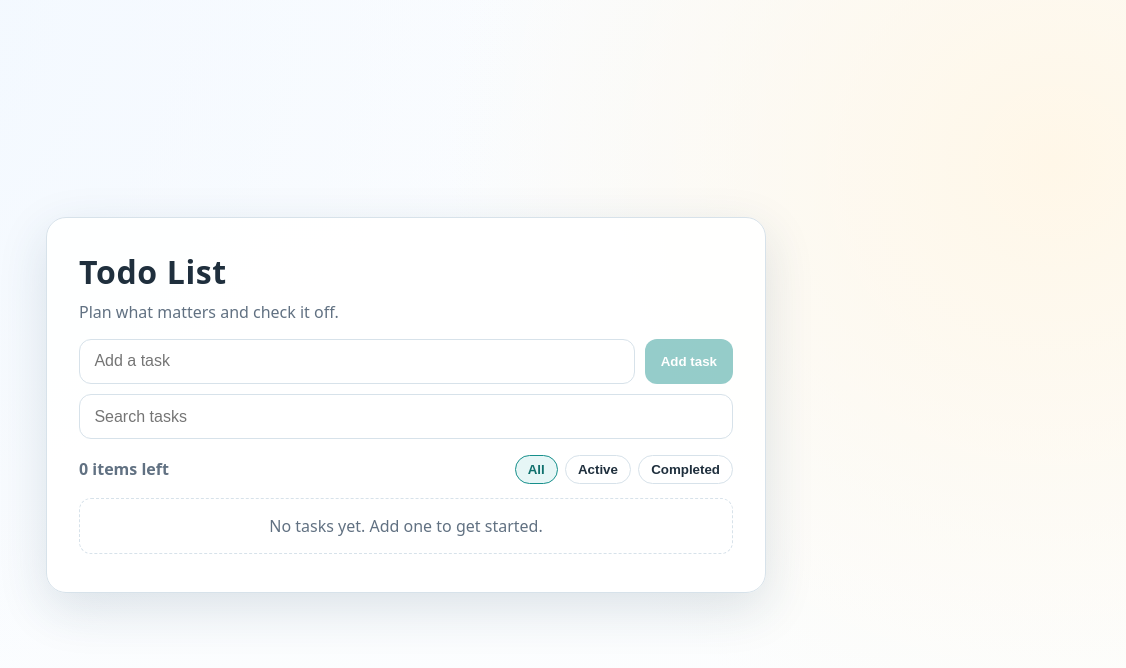
Test: filters todos in real time using search input
The width and height of the screenshot is (1126, 668).
Type "Buy milk" into the field named "new task".
click(357, 361); type("Buy milk")  # box [79,339,635,384]
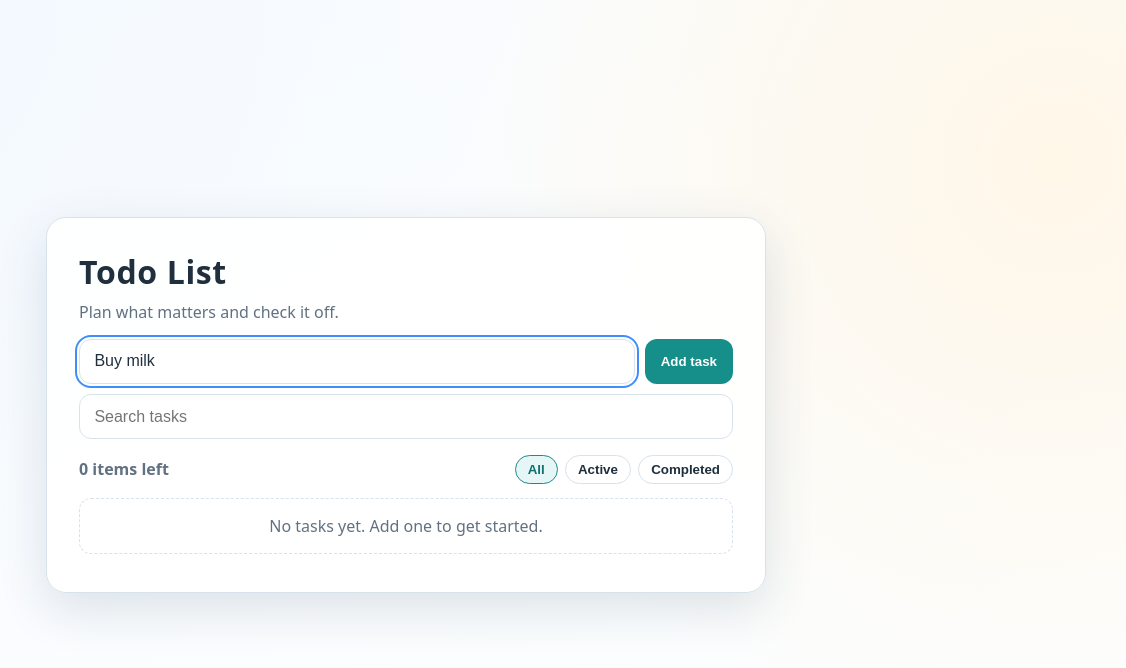
Click the button "Add task".
click(689, 361)  # box [645,339,733,384]
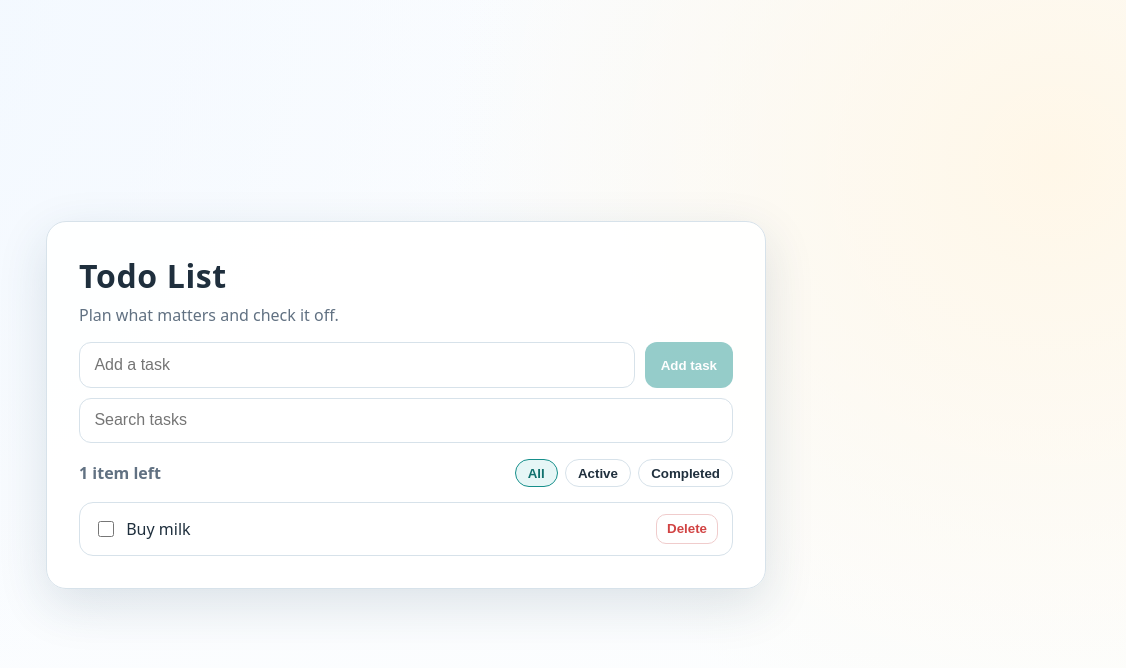
Type "Read docs" into the field named "new task".
click(357, 365); type("Read docs")  # box [79,342,635,388]
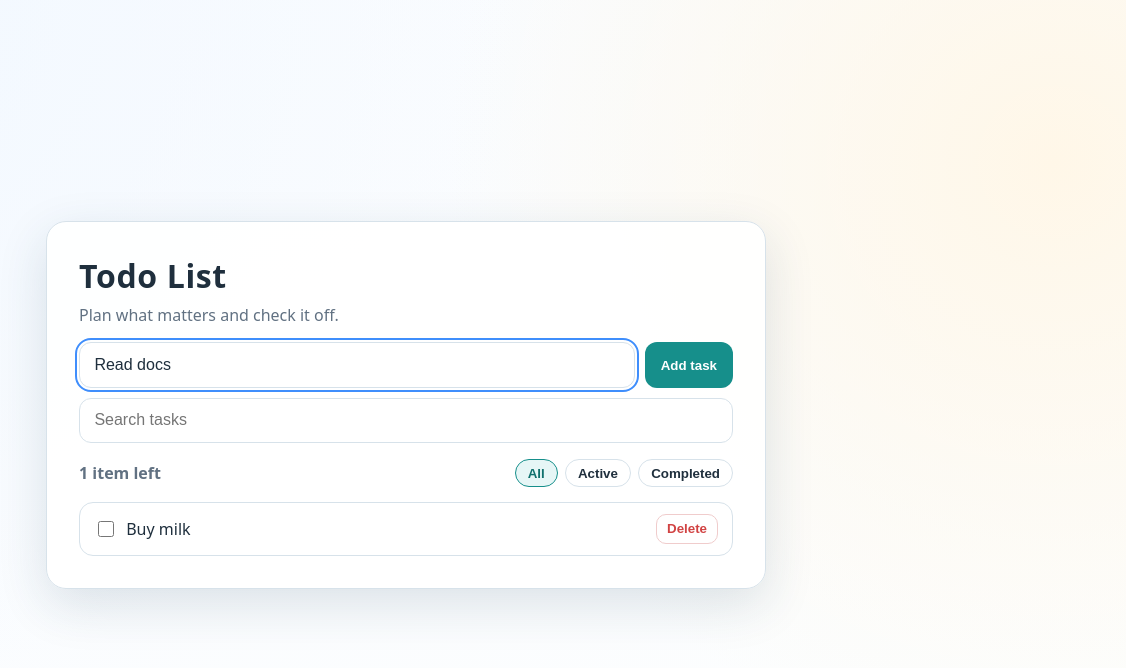
Click the button "Add task".
click(689, 365)  # box [645,342,733,388]
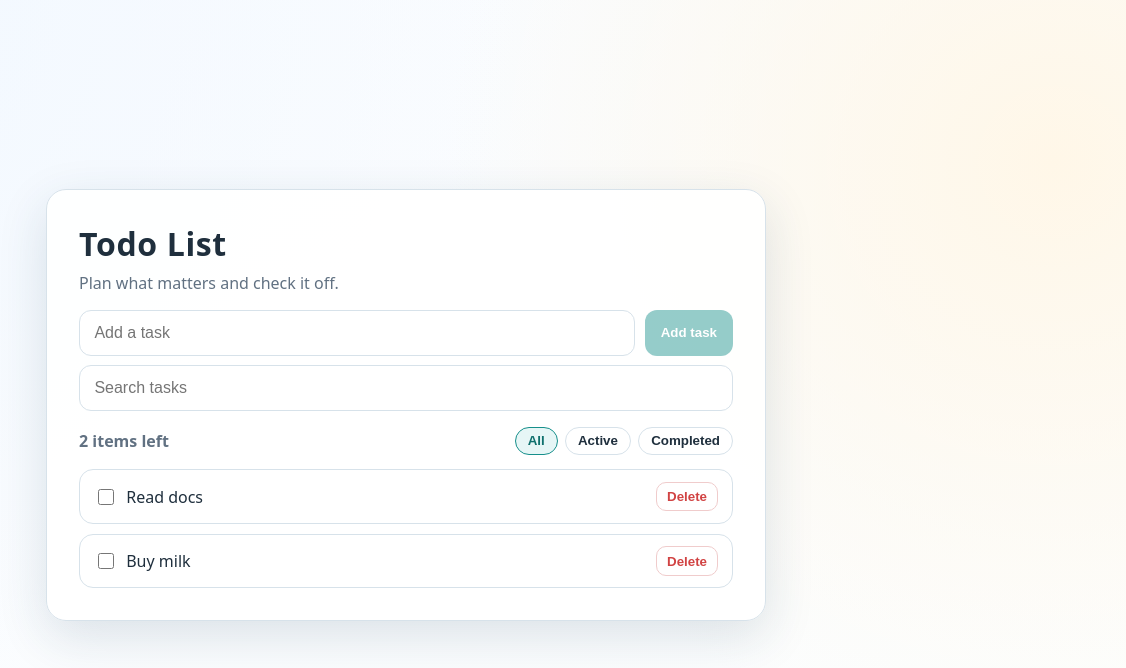
Type "buy" into the search field labelled "Search tasks".
click(406, 388); type("buy")  # box [79,365,733,411]
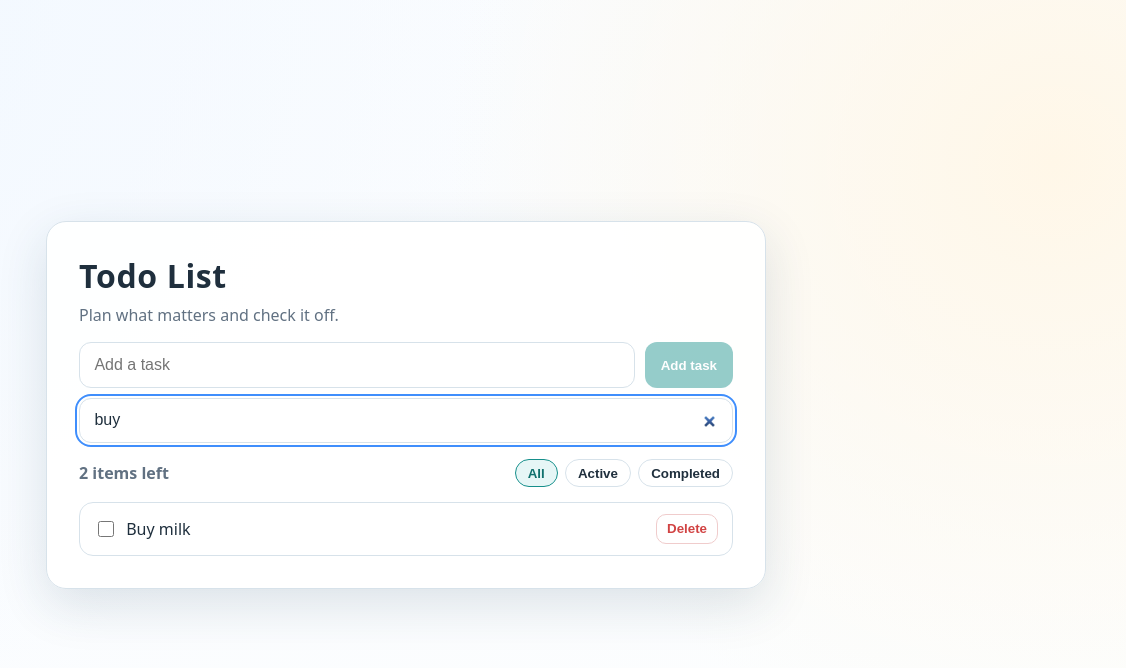
Check: the text "Buy milk" is shown, box [126,518,191,540]
Check: the text "Read docs" is gone
